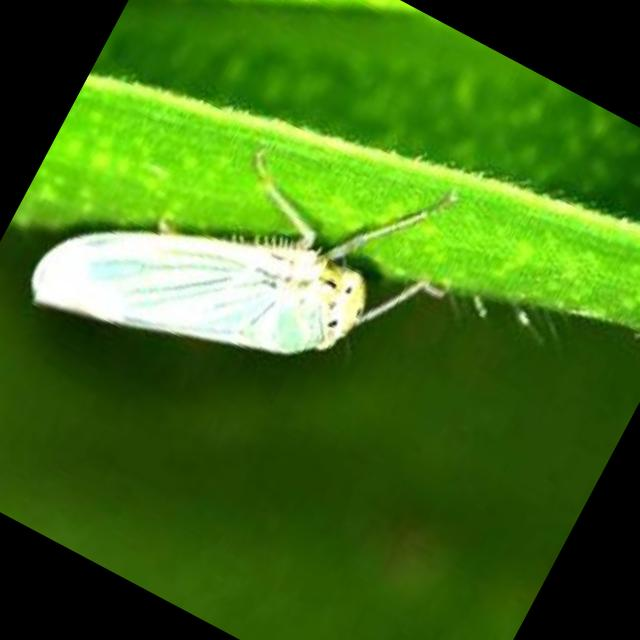green-leafhopper: (17, 74, 436, 457)
